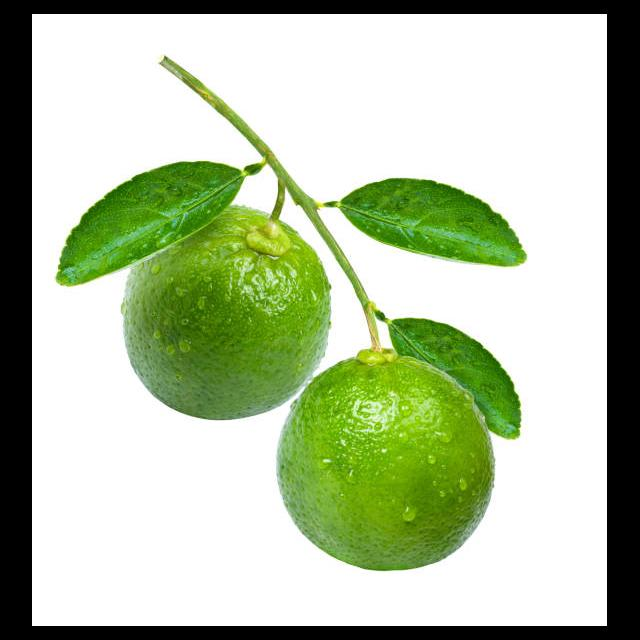lime: (278, 319, 522, 573), (122, 207, 332, 422)
